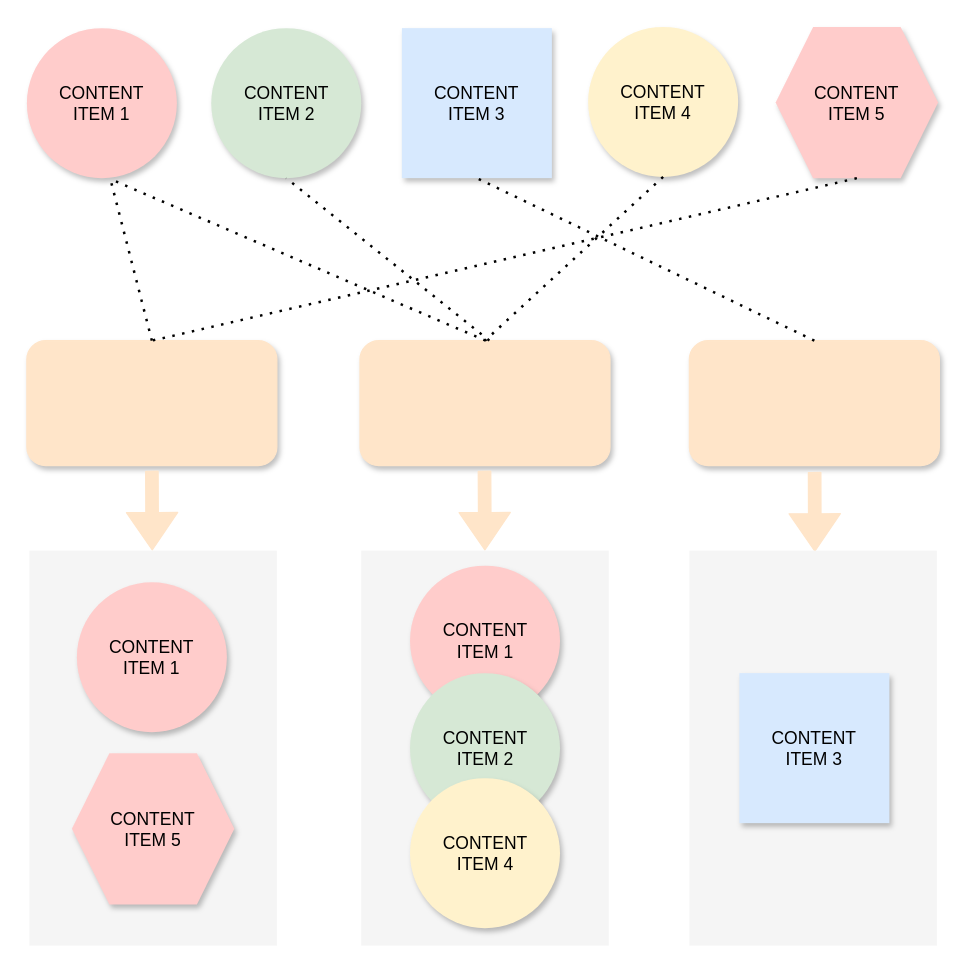
Some shapes in this 969 by 968 pixel diagram are drawn without their labels. Here are the shapes that lost their labels. From the top down, the centre of each, then its label:
(152,404): TAG: RED OBJECTS
(486,404): TAG: CIRCLES
(815,404): TAG: RECTANGLES
